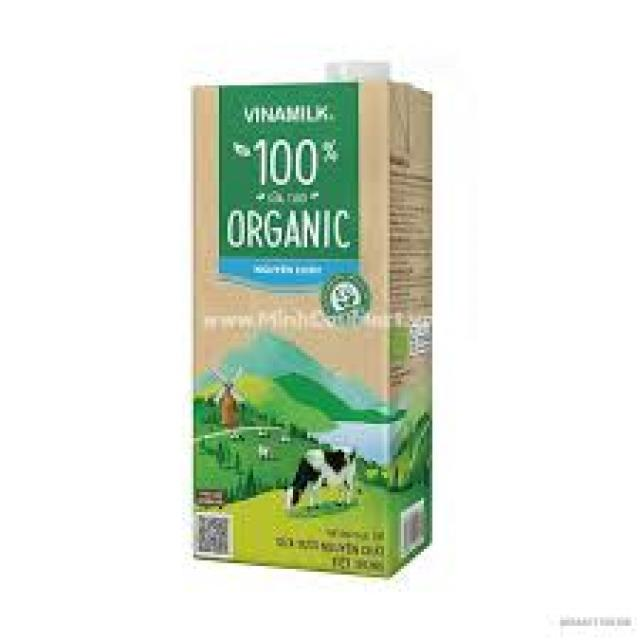non_white_jug: (162, 54, 458, 569)
